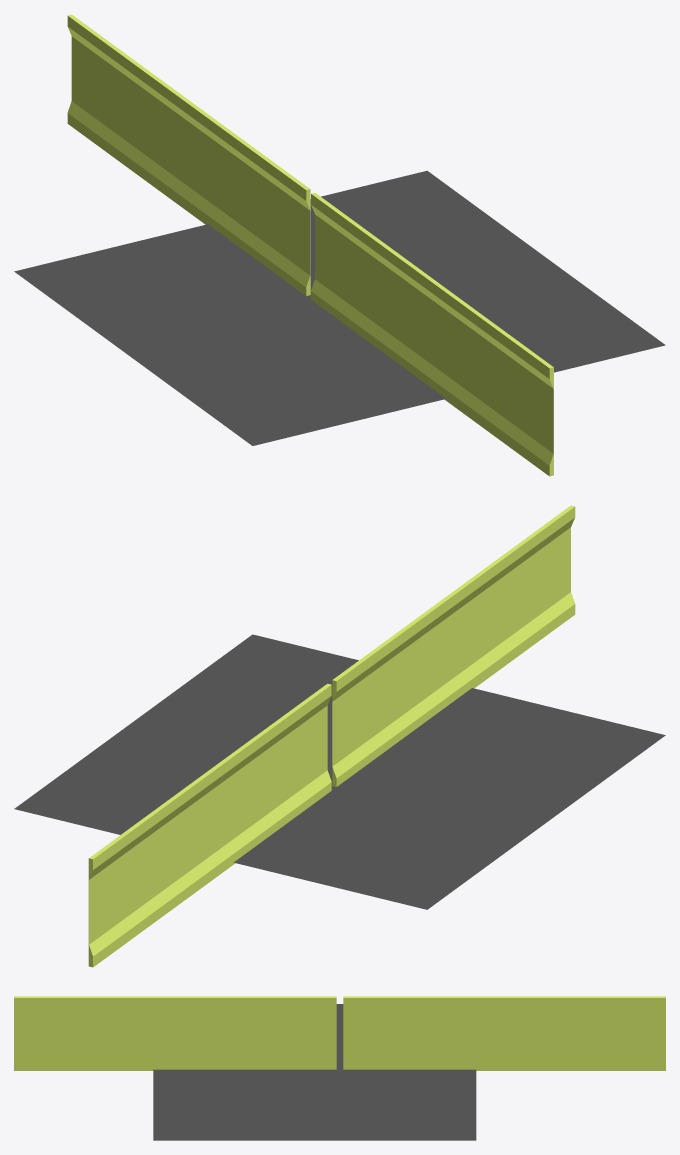
Rendered from Narrow_gap.dae.
The picture shows the model from 3 angles, top to bottom: view 1: azimuth 30°, elevation 25°; view 2: azimuth 150°, elevation 25°; view 3: azimuth 270°, elevation 25°; orthographic projection. The views are drawn at different scales.
Parts seen in each view (by area): view 1: node_a7bb84f4_0a18_4b2d_b294_40a0a2d6fedc_mesh1, node_a7bb84f4_0a18_4b2d_b294_40a0a2d6fedc_mesh2, node_a7bb84f4_0a18_4b2d_b294_40a0a2d6fedc_mesh0; view 2: node_a7bb84f4_0a18_4b2d_b294_40a0a2d6fedc_mesh1, node_a7bb84f4_0a18_4b2d_b294_40a0a2d6fedc_mesh2, node_a7bb84f4_0a18_4b2d_b294_40a0a2d6fedc_mesh0; view 3: node_a7bb84f4_0a18_4b2d_b294_40a0a2d6fedc_mesh2, node_a7bb84f4_0a18_4b2d_b294_40a0a2d6fedc_mesh0, node_a7bb84f4_0a18_4b2d_b294_40a0a2d6fedc_mesh1.
Part boxes in pixels (<box>): node_a7bb84f4_0a18_4b2d_b294_40a0a2d6fedc_mesh1: <box>14,170,665,445</box>; node_a7bb84f4_0a18_4b2d_b294_40a0a2d6fedc_mesh2: <box>67,14,310,295</box>; node_a7bb84f4_0a18_4b2d_b294_40a0a2d6fedc_mesh0: <box>311,192,553,476</box>; node_a7bb84f4_0a18_4b2d_b294_40a0a2d6fedc_mesh1: <box>14,634,665,909</box>; node_a7bb84f4_0a18_4b2d_b294_40a0a2d6fedc_mesh2: <box>88,683,331,967</box>; node_a7bb84f4_0a18_4b2d_b294_40a0a2d6fedc_mesh0: <box>332,505,575,786</box>; node_a7bb84f4_0a18_4b2d_b294_40a0a2d6fedc_mesh2: <box>343,996,665,1070</box>; node_a7bb84f4_0a18_4b2d_b294_40a0a2d6fedc_mesh0: <box>14,996,336,1070</box>; node_a7bb84f4_0a18_4b2d_b294_40a0a2d6fedc_mesh1: <box>153,1004,476,1140</box>.
Size of the model in its own units: 5000 by 1250 by 10100.
